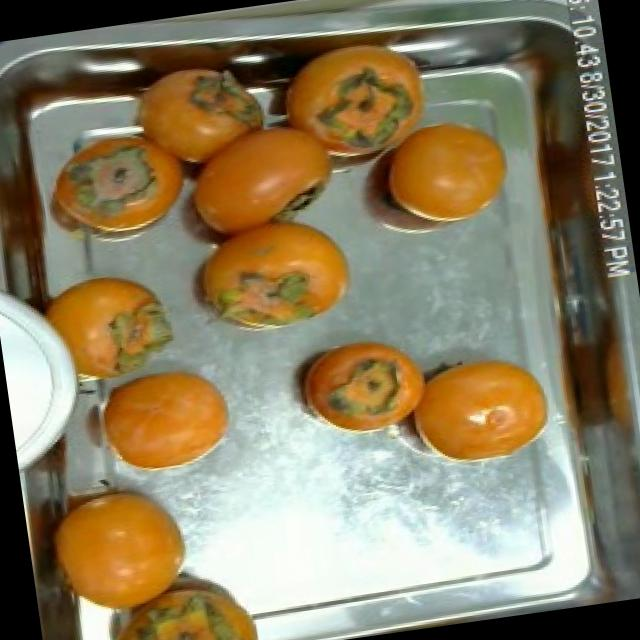Fruit: (25, 459, 213, 635), (178, 198, 370, 348), (23, 110, 208, 264), (70, 351, 250, 498), (15, 251, 194, 393), (358, 101, 530, 246), (393, 338, 564, 481), (280, 324, 436, 447), (67, 563, 273, 640)
